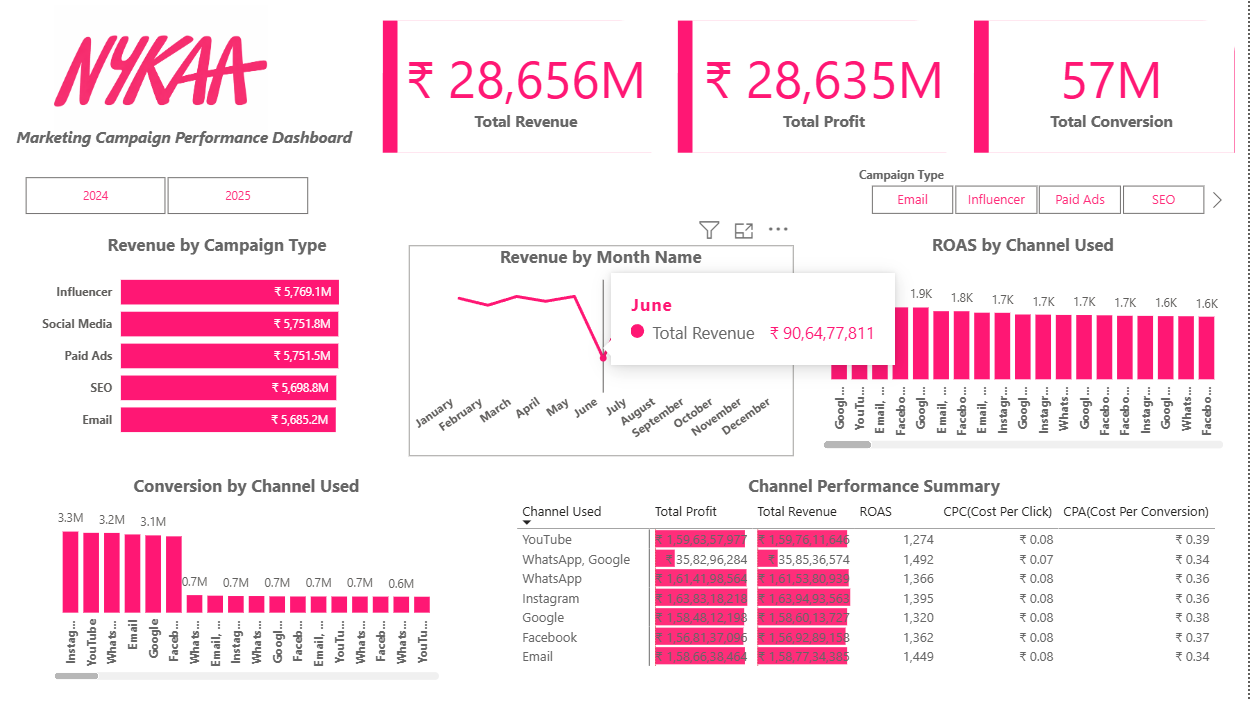

This screenshot's page, from the dashboard's own definition file:
{"tool":"powerbi","page":{"name":"Page 1","canvas":[1280,720],"ordinal":0},"visuals":[{"type":"image","box":[50,0,230,158],"z":0},{"type":"textbox","box":[11.7,125,383.3,41.7],"z":1000},{"type":"group","id":"g1","title":"Group 1","box":[391.7,21.7,280,136.7],"z":2000},{"type":"shape","box":[391.7,21.7,276,136],"z":2000,"group":"g1"},{"type":"shape","box":[695,21.7,276,136],"z":2000,"group":"g2"},{"type":"shape","box":[998.3,21.7,268,136],"z":2000,"group":"g3"},{"type":"group","id":"g2","title":"Group 1","box":[695,21.7,286.7,136.7],"z":3000},{"type":"card","fields":{"Values":["Measure Table.Total Revenue"]},"box":[407.7,21.7,264,136],"z":3001,"group":"g1"},{"type":"card","fields":{"Values":["Measure Table.Total Profit"]},"box":[711,21.7,270,136],"z":3001,"group":"g2"},{"type":"card","fields":{"Values":["Measure Table.Total Conversion"]},"box":[1014.3,21.7,252,136],"z":3001,"group":"g3"},{"type":"group","id":"g3","title":"Group 1","box":[998.3,21.7,268.3,136.7],"z":4000},{"type":"clusteredBarChart","title":"Revenue by Campaign Type","fields":{"Category":["Nykaa_campaign_Data.Campaign_Type"],"Y":["Measure Table.Total Revenue"]},"box":[37.5,239.5,370.8,223.6],"z":5000},{"type":"clusteredColumnChart","fields":{"Category":["Nykaa_campaign_Data.Channel Used"],"Y":["Measure Table.ROAS(Return on Ad Spend)"]},"box":[838.2,239.5,421.3,226.5],"z":6000},{"type":"clusteredColumnChart","title":"Conversion by Channel Used","fields":{"Category":["Nykaa_campaign_Data.Channel Used"],"Y":["Measure Table.Total Conversion"]},"box":[50.5,487.7,405.4,216.4],"z":7000},{"type":"lineChart","title":"Revenue by Month Name","fields":{"Category":["Nykaa_campaign_Data.Month Name"],"Y":["Measure Table.Total Revenue"]},"box":[419.8,252.5,393.9,216.4],"z":8000},{"type":"pivotTable","title":"Channel Performance Summary","fields":{"Rows":["Nykaa_campaign_Data.Channel Used"],"Values":["Measure Table.Total Profit","Measure Table.Total Revenue","Measure Table.ROAS(Return on Ad Spend)","Measure Table.CPC(Cost Per Click)","Measure Table.CPA(Cost Per Conversion)"]},"box":[525.2,487.7,741.6,216.4],"z":9000},{"type":"slicer","fields":{"Values":["Nykaa_campaign_Data.Campaign Type"]},"box":[868.5,167.3,391.6,60.5],"z":9001},{"type":"slicer","fields":{"Values":["Nykaa_campaign_Data.Year"]},"box":[0,176.2,339.9,51.6],"z":9002}]}

Visuals, with their boxes in screenshot pixels (x1, y1, x2, y2), scaled from the page's 1280x720 canvas onto the 1250x701 screenshot:
image: (49, 0, 273, 154)
textbox: (11, 122, 386, 162)
"Group 1" group: (383, 21, 656, 154)
shape: (383, 21, 652, 154)
shape: (679, 21, 948, 154)
shape: (975, 21, 1237, 154)
"Group 1" group: (679, 21, 959, 154)
card - Measure Table.Total Revenue: (398, 21, 656, 154)
card - Measure Table.Total Profit: (694, 21, 958, 154)
card - Measure Table.Total Conversion: (991, 21, 1237, 154)
"Group 1" group: (975, 21, 1237, 154)
"Revenue by Campaign Type" clusteredBarChart: (37, 233, 399, 451)
clusteredColumnChart - Nykaa_campaign_Data.Channel Used x Measure Table.ROAS(Return on Ad Spend): (819, 233, 1230, 454)
"Conversion by Channel Used" clusteredColumnChart: (49, 475, 445, 686)
"Revenue by Month Name" lineChart: (410, 246, 795, 457)
"Channel Performance Summary" pivotTable: (513, 475, 1237, 686)
slicer - Nykaa_campaign_Data.Campaign Type: (848, 163, 1231, 222)
slicer - Nykaa_campaign_Data.Year: (0, 172, 332, 222)
